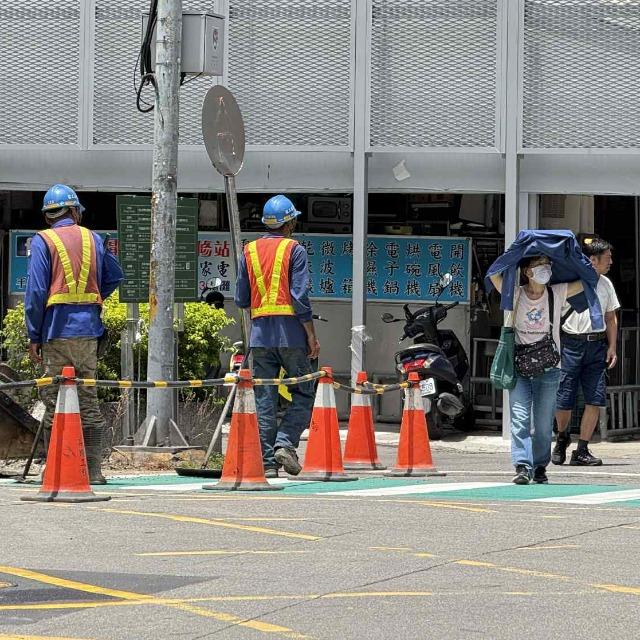Helmet: (258, 194, 306, 240)
NoVest: (504, 277, 569, 371)
Vest: (29, 225, 112, 322), (238, 233, 316, 334)
